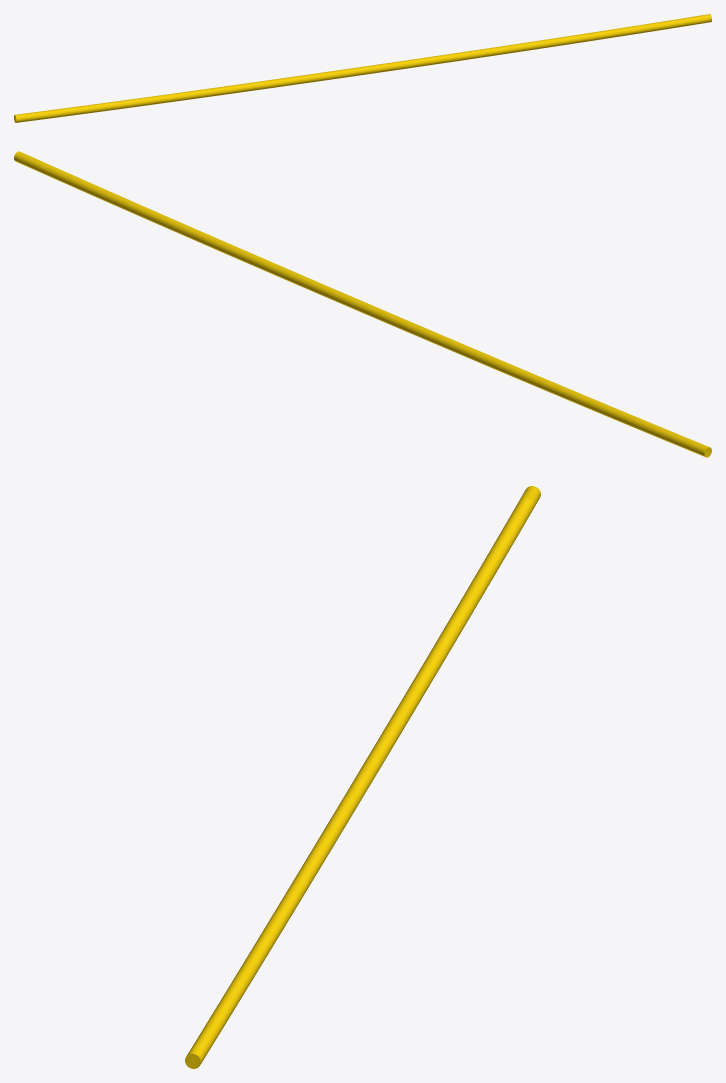
The model's file is Event_421115418_track_198.fbx.
3 views of the same model, one above another, from view 1: azimuth 30°, elevation 25°; view 2: azimuth 150°, elevation 25°; view 3: azimuth 270°, elevation 25° (orthographic). The views are drawn at different scales.
Visible parts, largest first — view 1: Model; view 2: Model; view 3: Model.
Part boxes in pixels (box(x1,y1,x2,y2)): Model: box(14, 14, 711, 122); Model: box(14, 151, 711, 457); Model: box(185, 486, 540, 1068).
Size of the model in its own units: 3.42 by 0.1152 by 0.8621.
